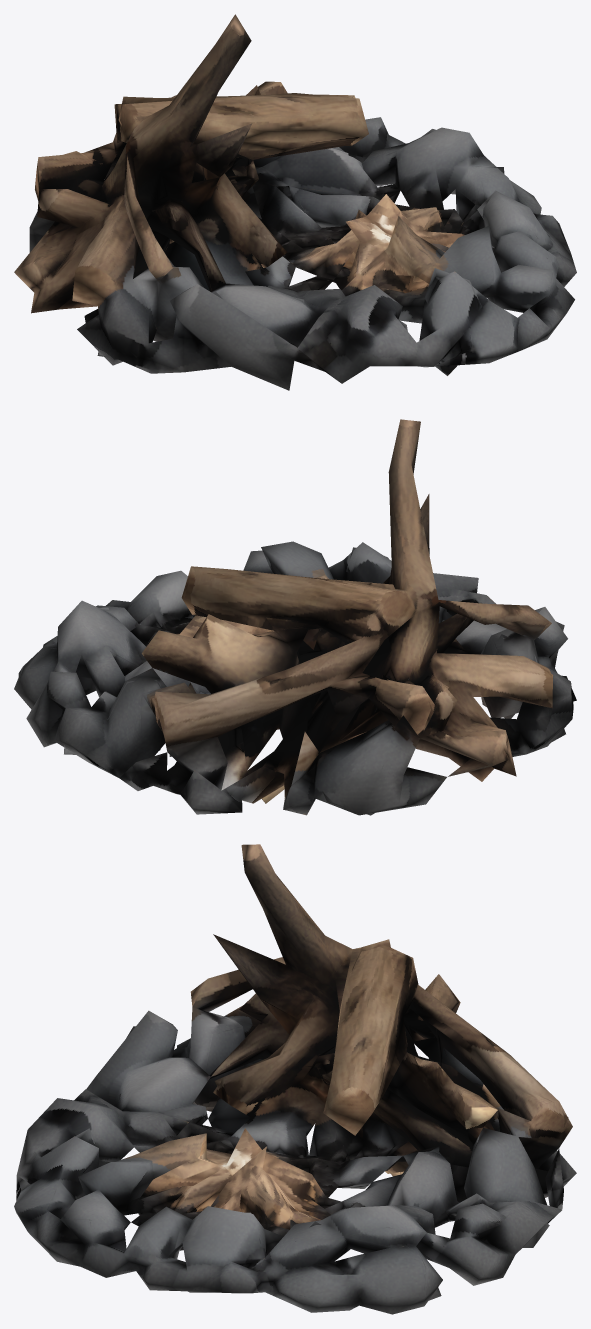
The model's file is campfire.glb.
3 renders of one model, top to bottom at view 1: azimuth 30°, elevation 25°; view 2: azimuth 150°, elevation 25°; view 3: azimuth 270°, elevation 25°, orthographic. The views are drawn at different scales.
Visible parts, largest first — view 1: geometry_0; view 2: geometry_0; view 3: geometry_0.
Boxes of the visible parts, box(x1,y1,x2,y2) form: geometry_0: box(14, 14, 576, 390); geometry_0: box(14, 419, 576, 815); geometry_0: box(14, 844, 576, 1314).
Size of the model in its own units: 0.9767 by 0.6055 by 0.9474.
Materials: 1 (1 with a texture image).
